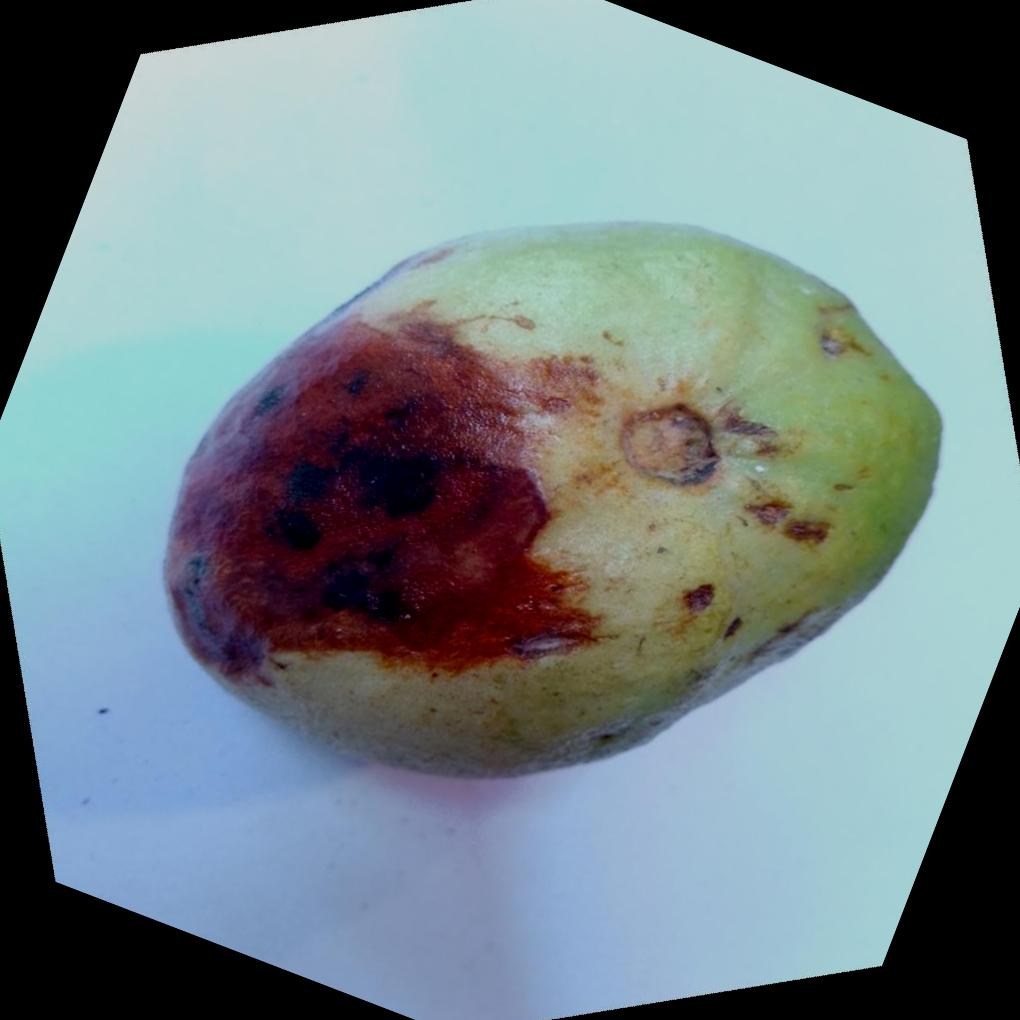FreshOrange: (158, 216, 942, 777)
